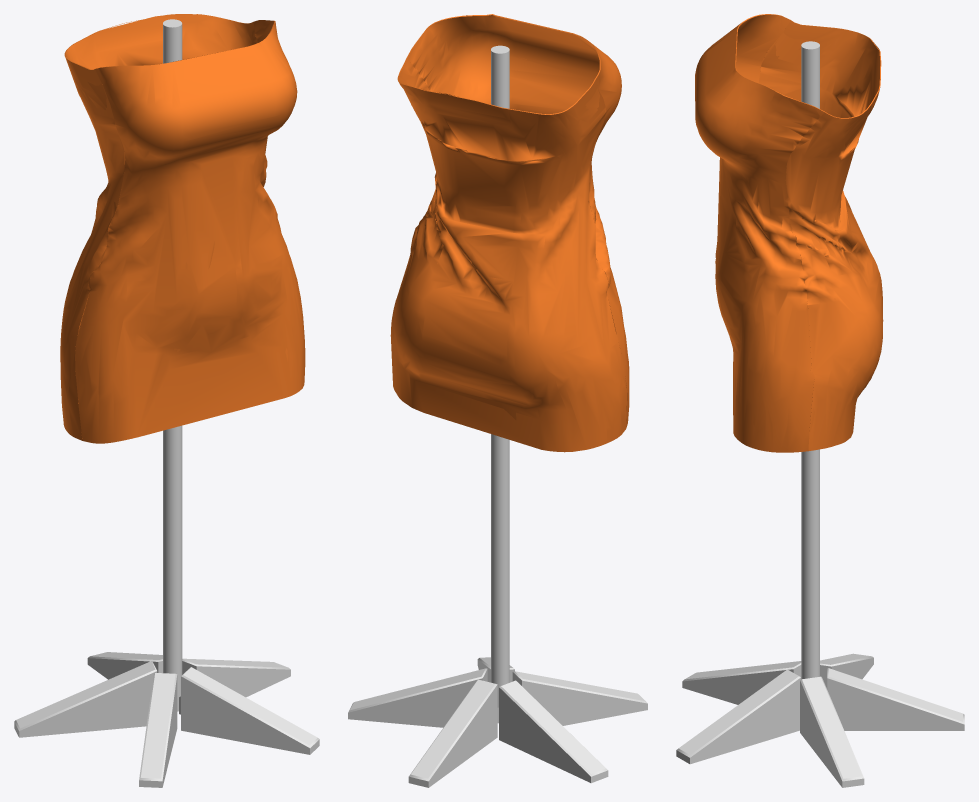
The model's file is female part short gaon .fbx.
3 views of the same model, side by side, from view 1: azimuth 30°, elevation 25°; view 2: azimuth 150°, elevation 25°; view 3: azimuth 270°, elevation 25° (orthographic). The views are drawn at different scales.
Parts seen in each view (by area): view 1: Pattern2D_423578, Pattern2D_423579, Cube_3, Cylinder, Cube_1, Cube_2, Cube_4, Cube_5; view 2: Pattern2D_423579, Pattern2D_423578, Cylinder, Cube_1, Cube_5, Cube_4, Cube_2; view 3: Pattern2D_423578, Pattern2D_423579, Cylinder, Cube_3, Cube_5, Cube_4, Cube_2, Cube_1.
Part boxes in pixels (x1,y1,x2,y2): Pattern2D_423578: (75, 20, 305, 443); Pattern2D_423579: (60, 14, 257, 440); Cube_3: (181, 667, 319, 754); Cylinder: (163, 19, 182, 697); Cube_1: (14, 661, 157, 737); Cube_2: (139, 673, 177, 787); Cube_4: (179, 658, 290, 714); Cube_5: (87, 652, 178, 711); Pattern2D_423579: (390, 58, 627, 452); Pattern2D_423578: (406, 14, 629, 427); Cylinder: (491, 45, 509, 707); Cube_1: (499, 680, 608, 783); Cube_5: (408, 679, 497, 787); Cube_4: (348, 668, 487, 727); Cube_2: (512, 671, 647, 725); Pattern2D_423578: (695, 14, 824, 452); Pattern2D_423579: (759, 20, 883, 451); Cylinder: (801, 41, 819, 679); Cube_3: (676, 669, 800, 764); Cube_5: (827, 668, 964, 730); Cube_4: (800, 676, 864, 787); Cube_2: (682, 661, 801, 704); Cube_1: (820, 653, 873, 689).
Size of the model in its own units: 436 by 1090 by 419.
